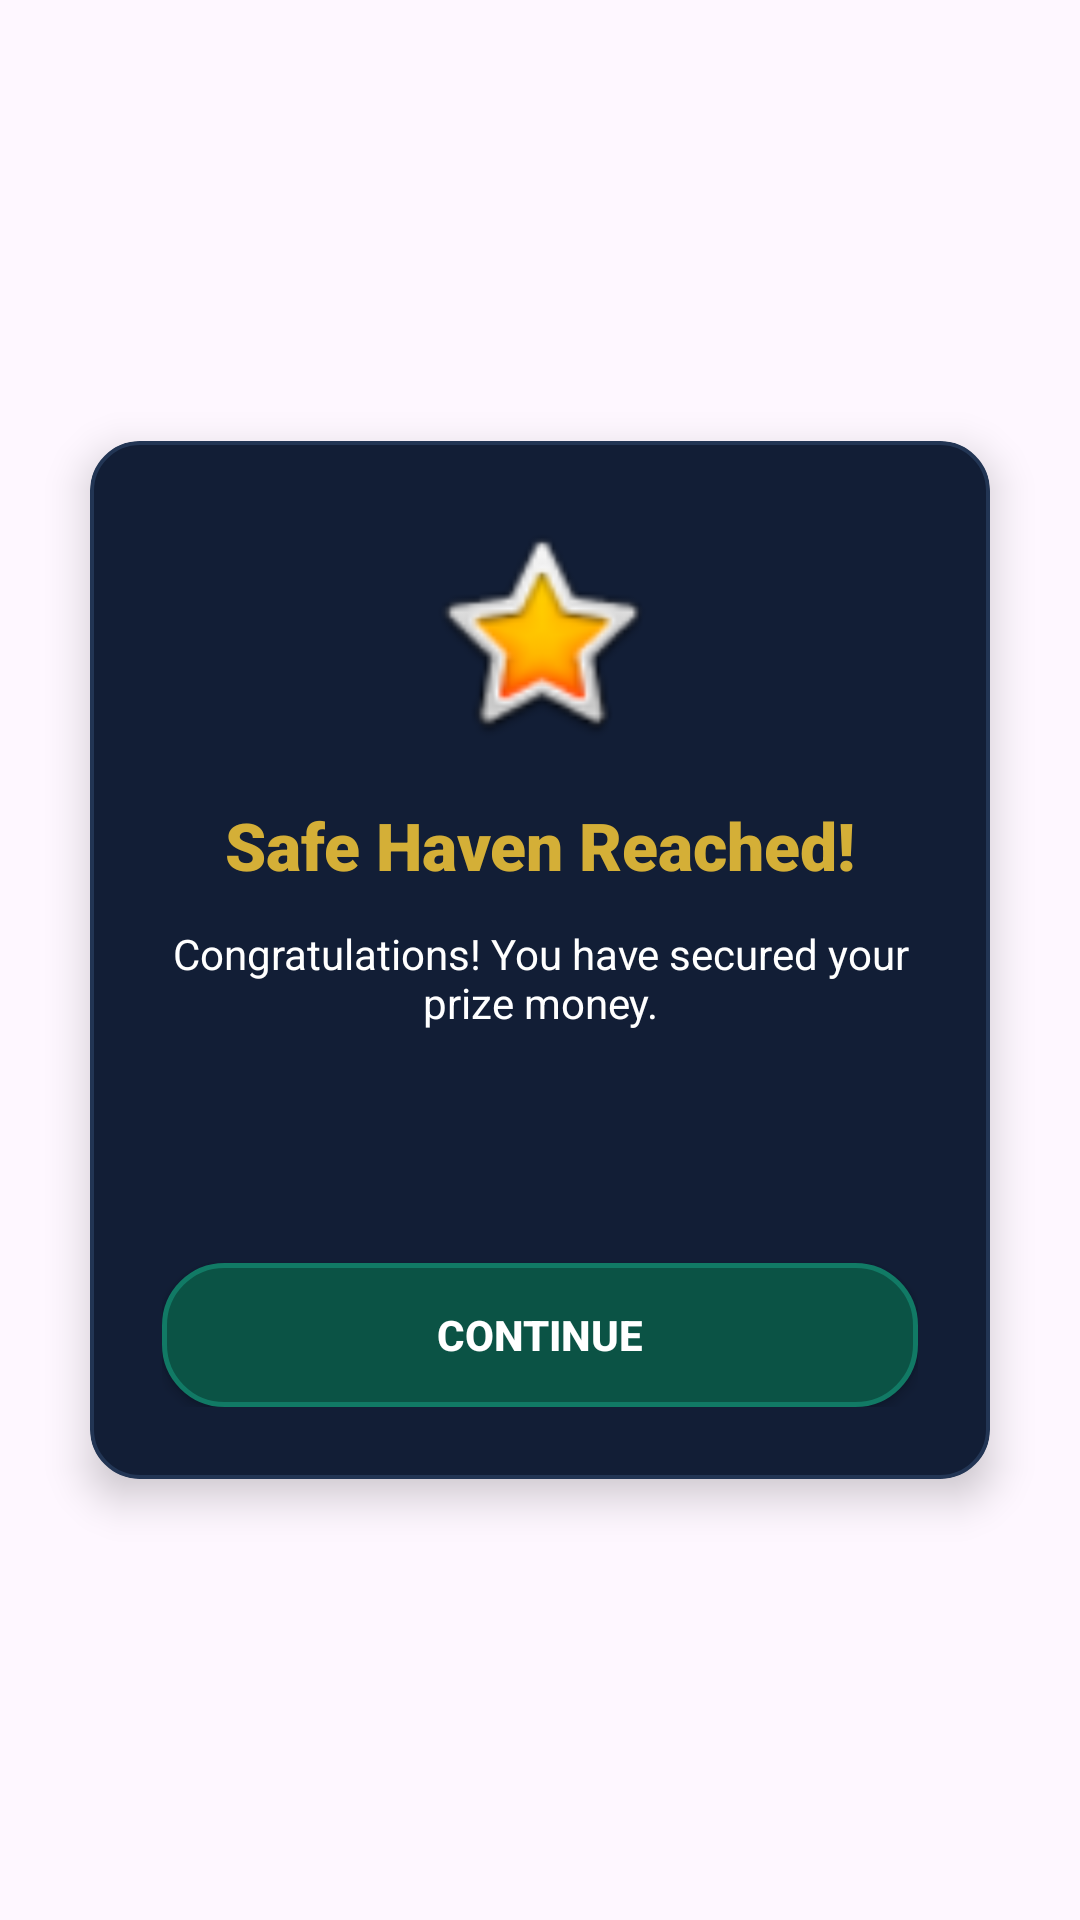

Icon click points for this 1080px×1920px phone screenshot, format (x=x, y=y):
Milestone reached icon: (x=542, y=632)
